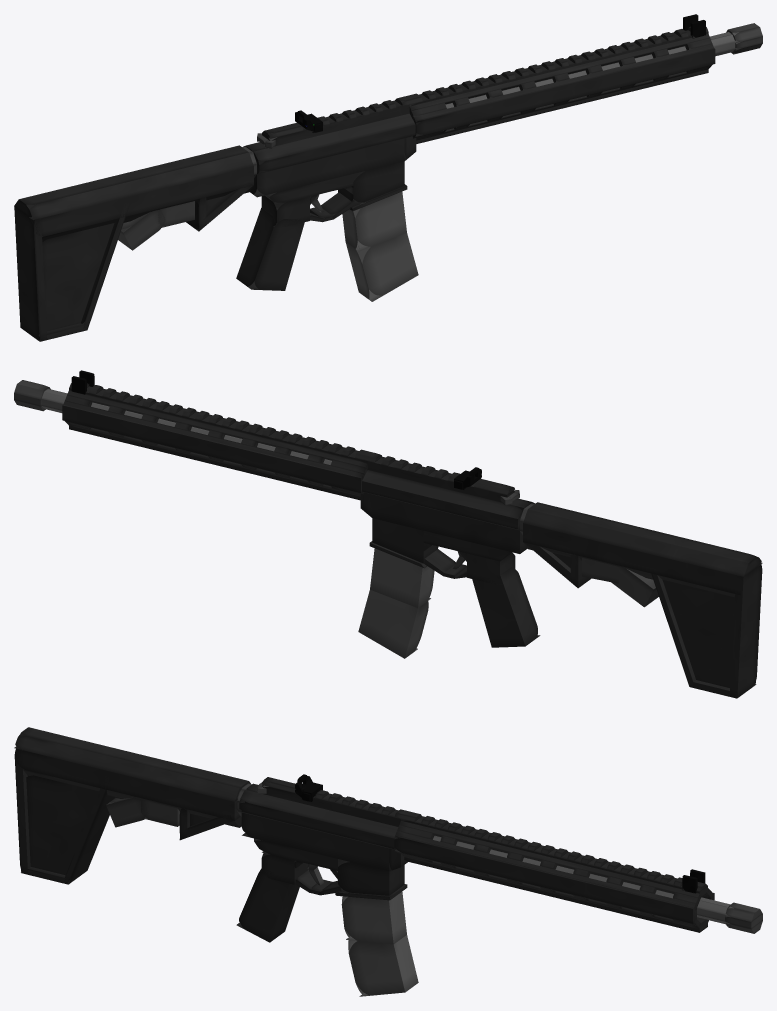
3 renders of one model, top to bottom at view 1: azimuth 30°, elevation 25°; view 2: azimuth 150°, elevation 25°; view 3: azimuth 330°, elevation 25°, orthographic.
Visible parts, largest first — view 1: defaultStockModel2, defaultStockModel6, gunModel2, defaultStockModel1, gunModel9, defaultGripModel0, gunModel12, defaultStockModel3, ammoModel1, ammoModel0, gunModel59, gunModel1 (+13 smaller); view 2: defaultStockModel2, defaultStockModel6, gunModel4, defaultStockModel1, gunModel10, gunModel12, defaultGripModel0, defaultStockModel3, ammoModel1, ammoModel0, gunModel3, gunModel14 (+12 smaller); view 3: defaultStockModel2, defaultStockModel6, gunModel2, defaultStockModel1, gunModel9, gunModel12, ammoModel1, defaultGripModel0, ammoModel0, gunModel59, gunModel14, defaultStockModel5 (+14 smaller).
Boxes of the visible parts, bbox=[...] form: defaultStockModel2: bbox=[14, 145, 253, 219]; defaultStockModel6: bbox=[38, 223, 114, 336]; gunModel2: bbox=[414, 48, 715, 136]; defaultStockModel1: bbox=[27, 166, 253, 236]; gunModel9: bbox=[253, 113, 415, 174]; defaultGripModel0: bbox=[236, 207, 305, 290]; gunModel12: bbox=[249, 138, 404, 197]; defaultStockModel3: bbox=[14, 206, 47, 341]; ammoModel1: bbox=[345, 233, 418, 301]; ammoModel0: bbox=[342, 191, 406, 251]; gunModel59: bbox=[409, 33, 709, 112]; gunModel1: bbox=[412, 44, 713, 122]; defaultStockModel2: bbox=[523, 502, 762, 576]; defaultStockModel6: bbox=[662, 579, 734, 687]; gunModel4: bbox=[62, 404, 363, 492]; defaultStockModel1: bbox=[523, 523, 760, 595]; gunModel10: bbox=[362, 470, 523, 530]; gunModel12: bbox=[372, 494, 527, 553]; defaultGripModel0: bbox=[472, 567, 540, 647]; defaultStockModel3: bbox=[729, 564, 762, 698]; ammoModel1: bbox=[358, 590, 428, 658]; ammoModel0: bbox=[370, 548, 434, 607]; gunModel3: bbox=[67, 390, 367, 468]; gunModel14: bbox=[372, 518, 438, 563]; defaultStockModel2: bbox=[14, 727, 250, 801]; defaultStockModel6: bbox=[26, 775, 98, 875]; gunModel2: bbox=[394, 835, 696, 923]; defaultStockModel1: bbox=[16, 750, 240, 820]; gunModel9: bbox=[239, 789, 398, 849]; gunModel12: bbox=[241, 801, 391, 871]; ammoModel1: bbox=[348, 935, 418, 996]; defaultGripModel0: bbox=[236, 868, 299, 942]; ammoModel0: bbox=[341, 892, 406, 944]; gunModel59: bbox=[399, 821, 701, 899]; gunModel14: bbox=[338, 862, 404, 895]; defaultStockModel5: bbox=[64, 776, 115, 883].
Bounding box in the file's own units: 22.1 × 5.75 × 1.13.
